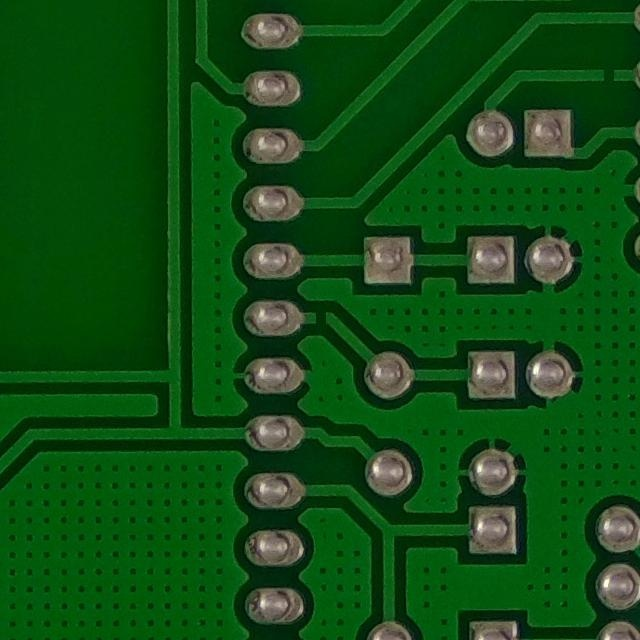open_circuit: (307, 306, 334, 333)
